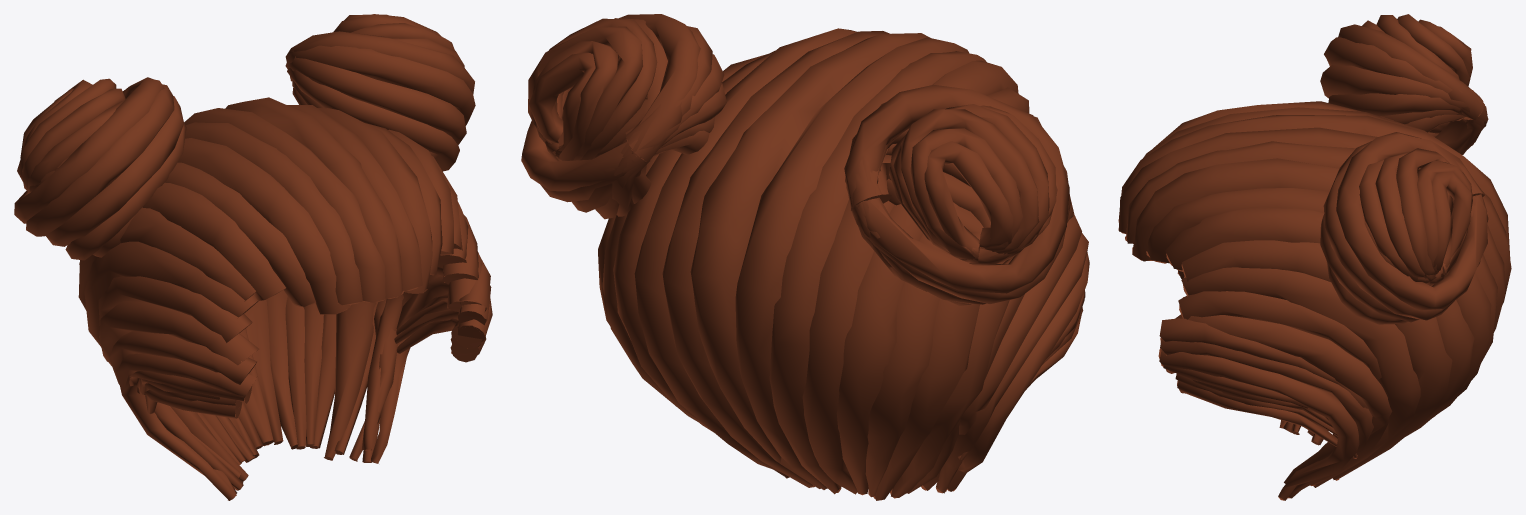
The model's file is hair-6-7e5955d8.glb.
3 renders of one model, left to right at view 1: azimuth 30°, elevation 25°; view 2: azimuth 150°, elevation 25°; view 3: azimuth 270°, elevation 25°, orthographic. The views are drawn at different scales.
Visible parts, largest first — view 1: hair_6.001; view 2: hair_6.001; view 3: hair_6.001.
Boxes of the visible parts, x1=… form: hair_6.001: x1=14, y1=14, x2=492, y2=500; hair_6.001: x1=521, y1=14, x2=1089, y2=500; hair_6.001: x1=1118, y1=14, x2=1511, y2=500.
Size of the model in its own units: 2.42 by 2.03 by 1.9.
